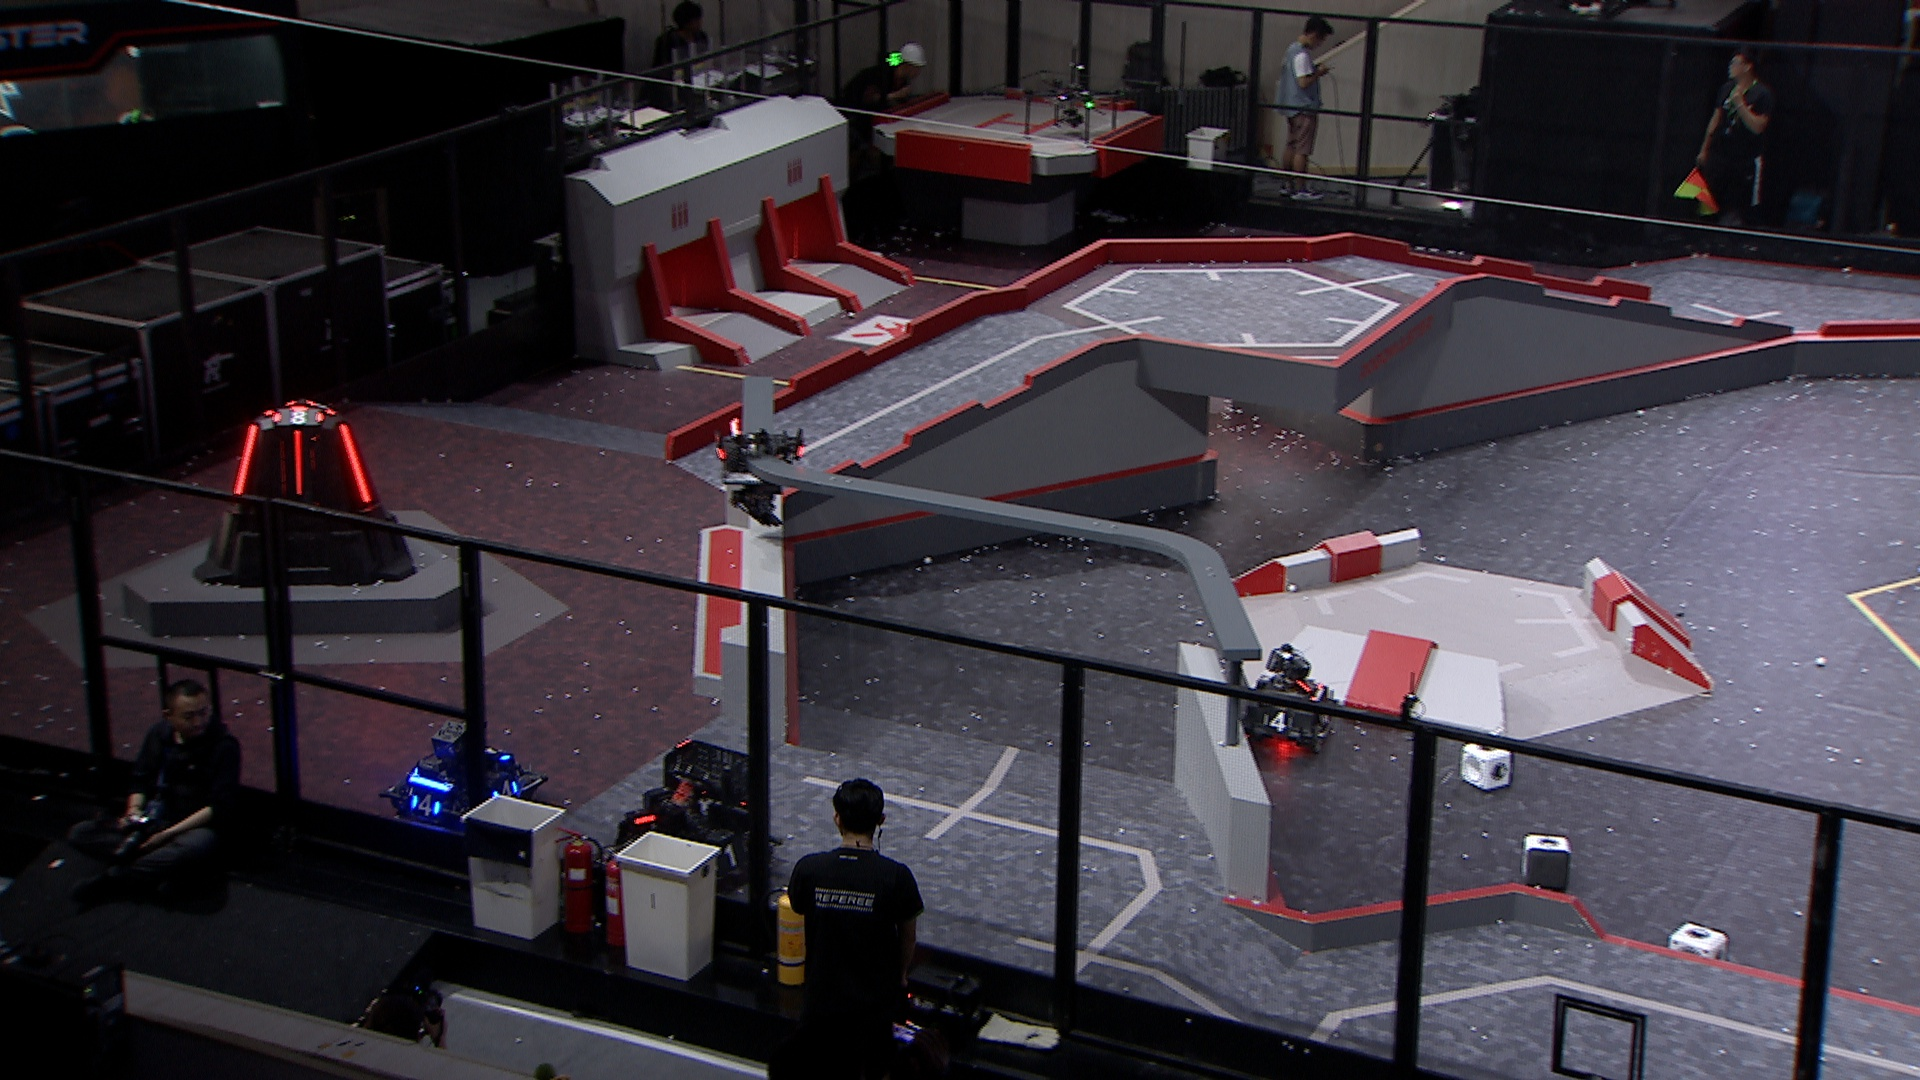armor: (335, 423, 372, 501), (231, 419, 258, 498), (272, 404, 327, 427), (290, 429, 309, 495), (407, 790, 444, 820), (713, 843, 750, 870), (1262, 709, 1292, 735), (491, 778, 522, 799), (483, 745, 512, 765), (712, 431, 728, 463)
base: (195, 400, 419, 591)
car: (593, 735, 783, 903), (380, 719, 542, 835), (1237, 640, 1338, 752)
watcher: (711, 414, 807, 529)
